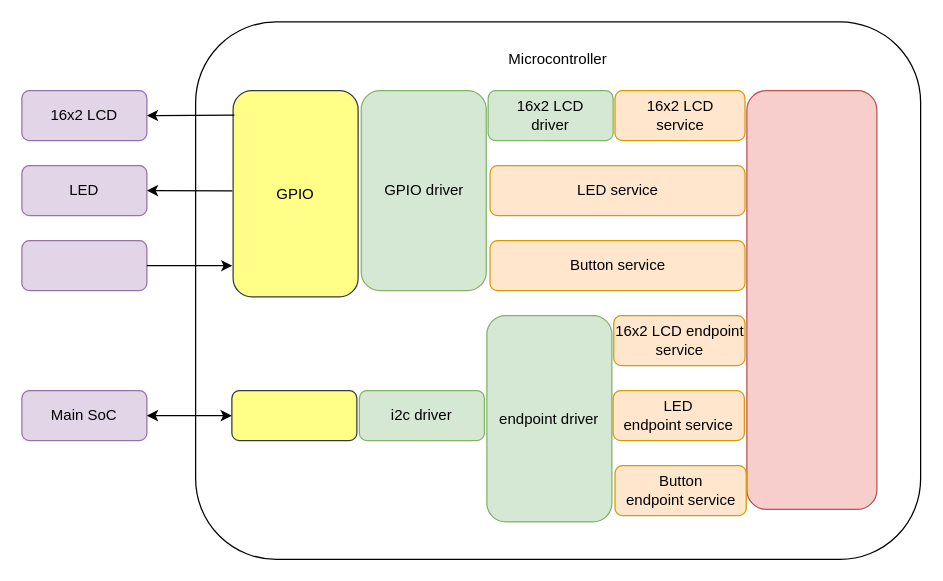
This 943x581 diagram has some shape labels left out. The shapes that lost their labels are listed below. From the top down, each one's centre as x and y in pixels, then its label:
point (84, 265): Button
point (811, 299): Application
point (294, 415): MSSP module
